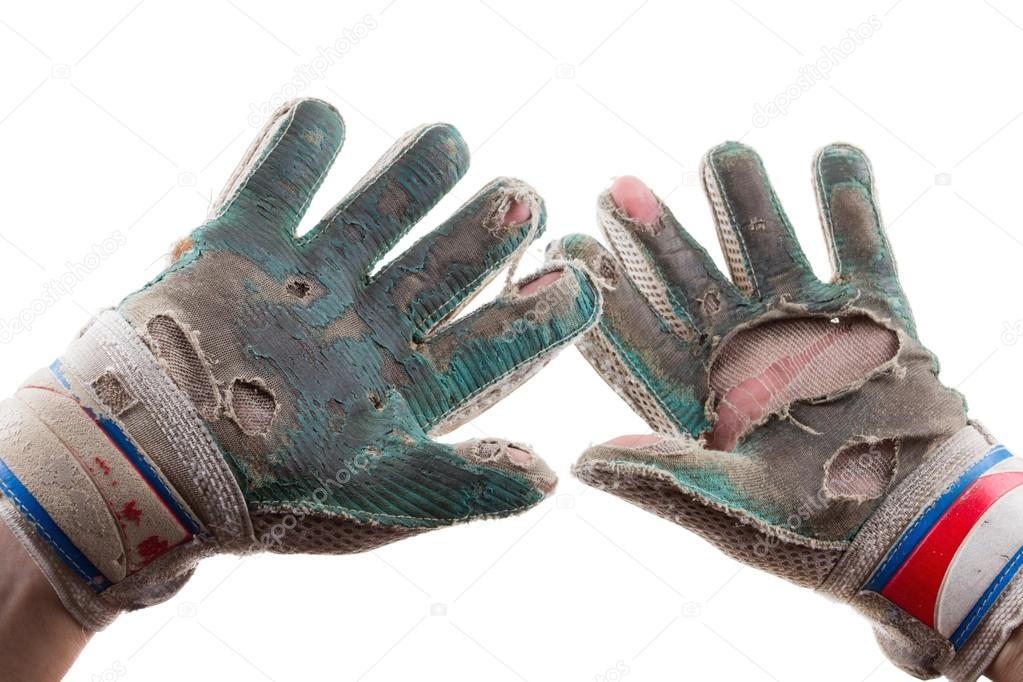defected: (120, 90, 590, 588), (535, 156, 1012, 641)
